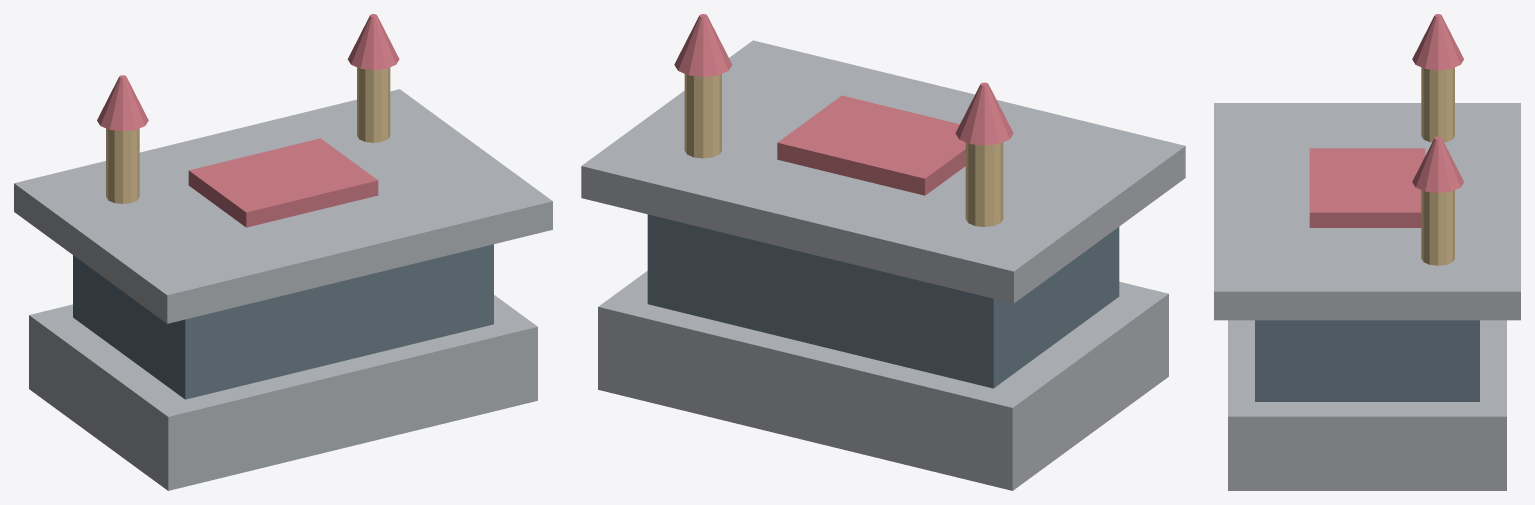
The model's file is horror-stone-altar.gltf.
The picture shows the model from 3 angles, left to right: view 1: azimuth 30°, elevation 25°; view 2: azimuth 150°, elevation 25°; view 3: azimuth 270°, elevation 25°; orthographic projection. The views are drawn at different scales.
Visible parts, largest first — view 1: Mesh 2, Mesh 0, Mesh 1, Mesh 7, Mesh 3, Mesh 5, Mesh 4, Mesh 6; view 2: Mesh 2, Mesh 0, Mesh 1, Mesh 7, Mesh 3, Mesh 5, Mesh 4, Mesh 6; view 3: Mesh 2, Mesh 0, Mesh 1, Mesh 7, Mesh 5, Mesh 3, Mesh 6, Mesh 4.
Part boxes in pixels (x1,y1,x2,y2): Mesh 2: (14, 89, 552, 323); Mesh 0: (29, 295, 537, 490); Mesh 1: (73, 244, 493, 399); Mesh 7: (188, 138, 378, 227); Mesh 3: (106, 128, 139, 203); Mesh 5: (357, 67, 390, 142); Mesh 4: (97, 75, 148, 131); Mesh 6: (347, 14, 399, 70); Mesh 2: (581, 40, 1185, 303); Mesh 0: (598, 271, 1168, 490); Mesh 1: (647, 214, 1119, 388); Mesh 7: (777, 95, 965, 195); Mesh 3: (965, 142, 1003, 226); Mesh 5: (684, 74, 721, 158); Mesh 4: (955, 82, 1013, 145); Mesh 6: (674, 14, 732, 76); Mesh 2: (1214, 103, 1520, 320); Mesh 0: (1228, 320, 1506, 490); Mesh 1: (1255, 320, 1479, 401); Mesh 7: (1309, 148, 1425, 227); Mesh 5: (1421, 190, 1454, 265); Mesh 3: (1421, 67, 1454, 142); Mesh 6: (1412, 136, 1463, 192); Mesh 4: (1412, 14, 1463, 70).
Size of the model in its own units: 2.4 by 1.92 by 1.65.
